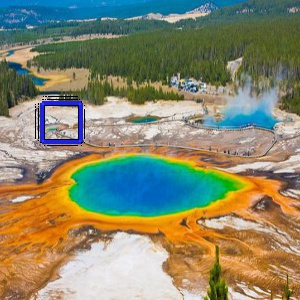square: (37, 98, 85, 146)
